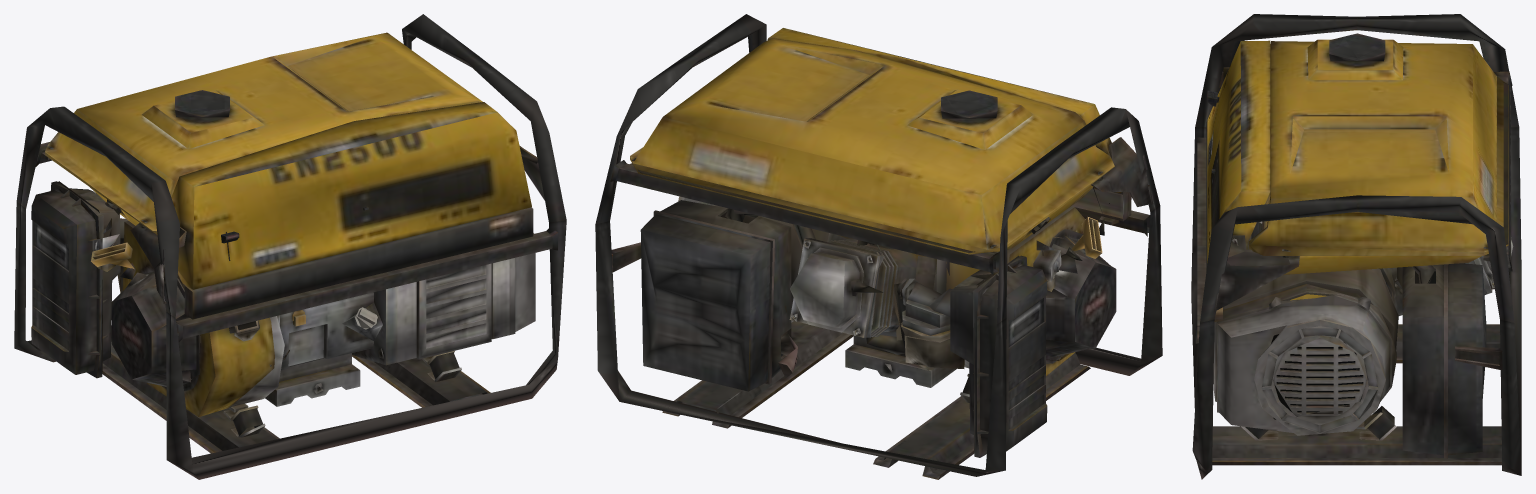
The model's file is generator.glb.
3 views of the same model, side by side, from view 1: azimuth 30°, elevation 25°; view 2: azimuth 150°, elevation 25°; view 3: azimuth 270°, elevation 25° (orthographic). The views are drawn at different scales.
Visible parts, largest first — view 1: portable_generator; view 2: portable_generator; view 3: portable_generator.
Boxes of the visible parts, x1,y1,x2,y2 form: portable_generator: (14, 14, 566, 479); portable_generator: (595, 14, 1162, 479); portable_generator: (1191, 14, 1521, 479).
Size of the model in its own units: 0.8146 by 0.5752 by 0.5615.
Materials: 2 (2 with a texture image).
